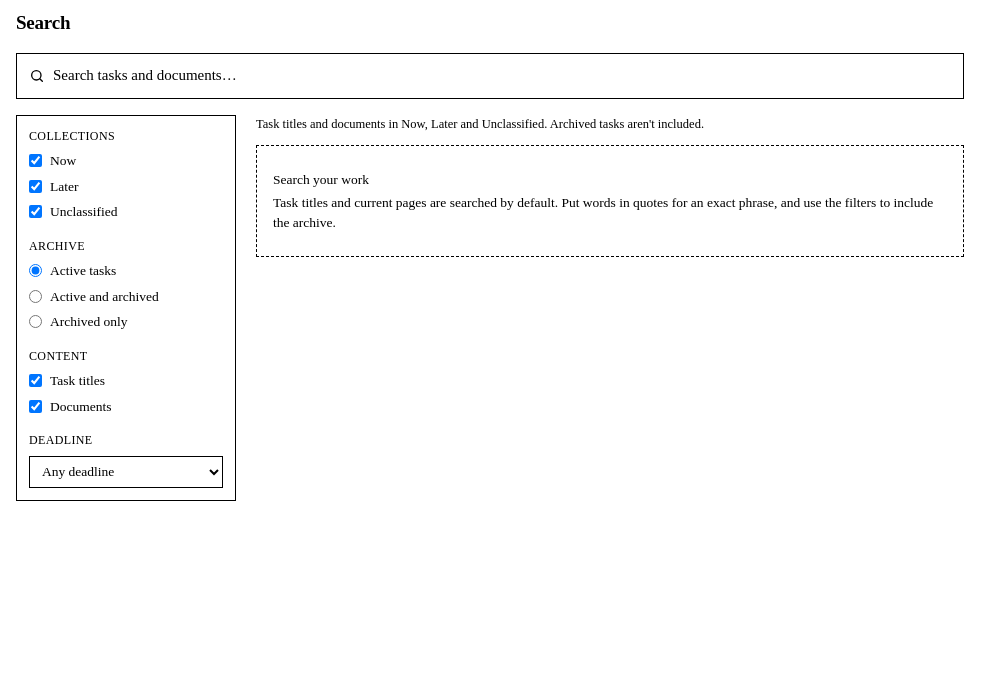
Scenario: the full search screen › refuses a malformed date range and explains an unavailable deadline filter
Type "portfolio" into the search field at [502, 76], box [53,54,951,98]
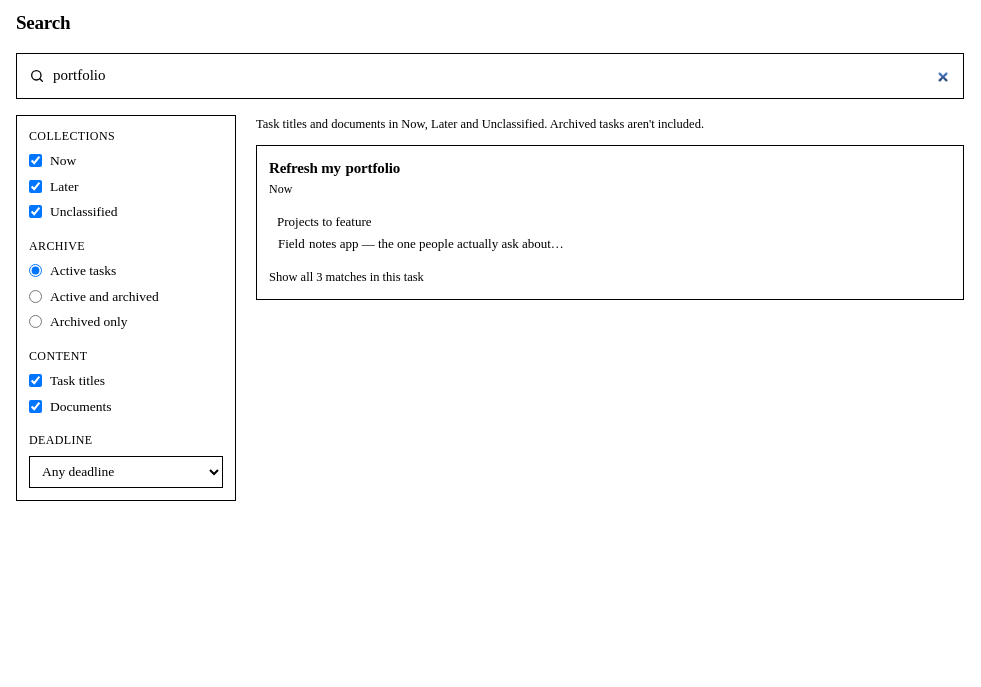
Select "Due between" in the dropdown named "Deadline filter" at [126, 472], box [29,456,223,488]
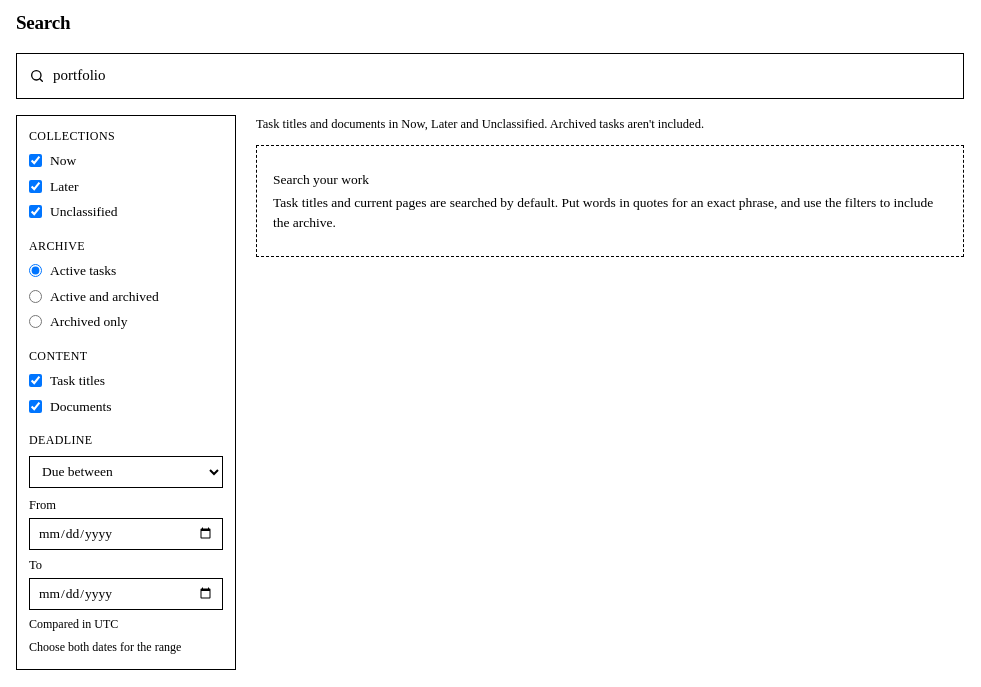
Expected: the text "Choose both dates for the range" is shown, [29,640,181,654]
Type "2026-03-05" into the date field labelled "From" at [126, 534], box [29,518,223,550]
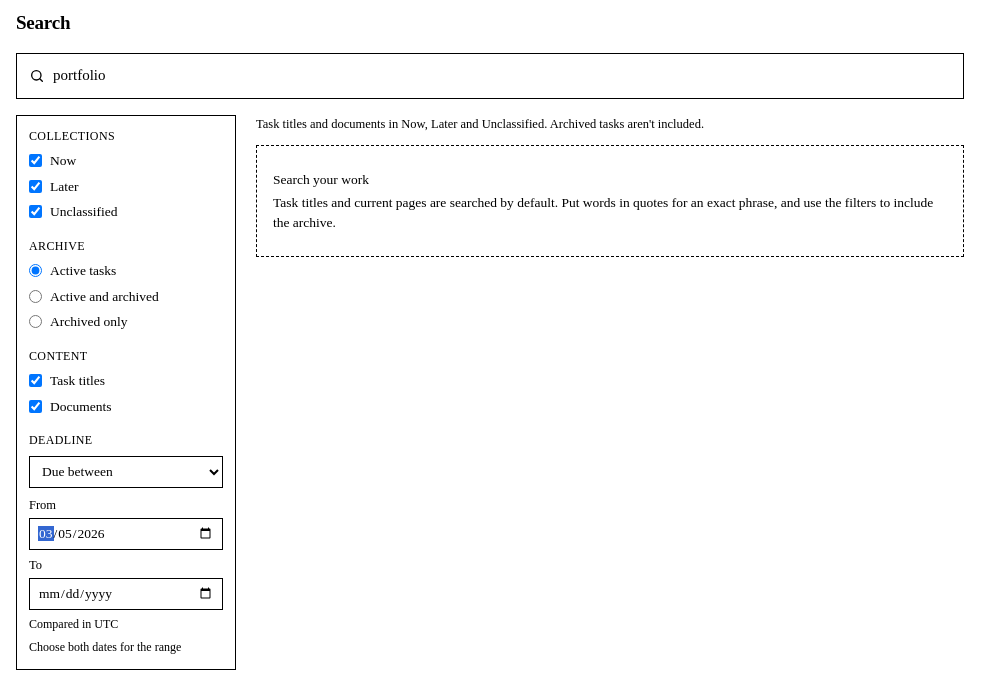
Type "2026-03-01" into the date field labelled "To" at [126, 594], box [29,578,223,610]
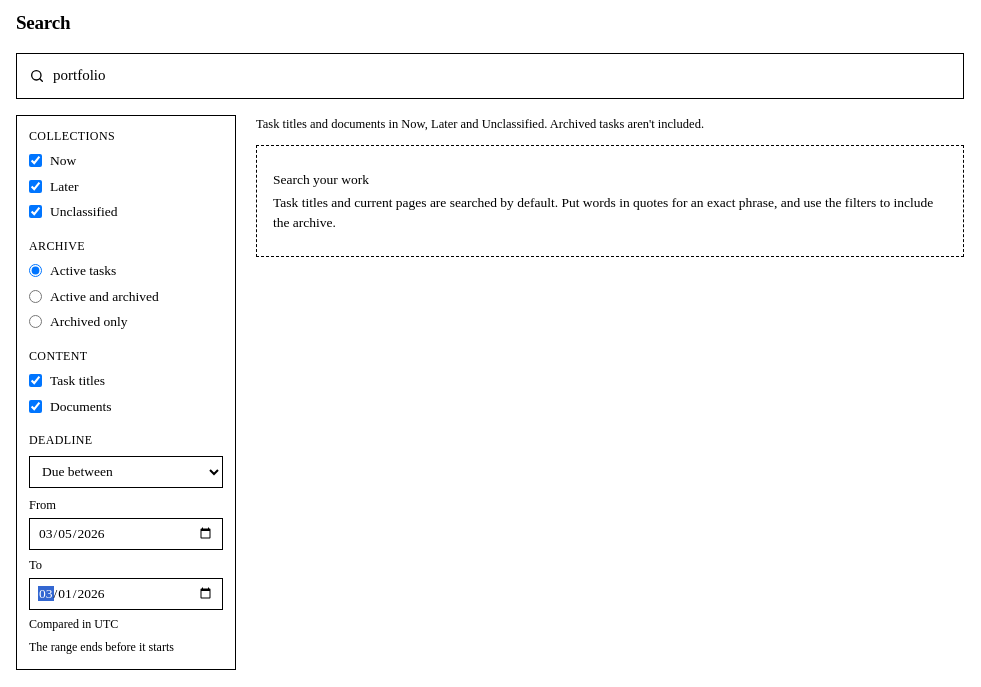
Expected: the text "The range ends before it starts" is shown, [29,640,174,654]
Select "Due today" in the dropdown named "Deadline filter" at [126, 472], box [29,456,223,488]
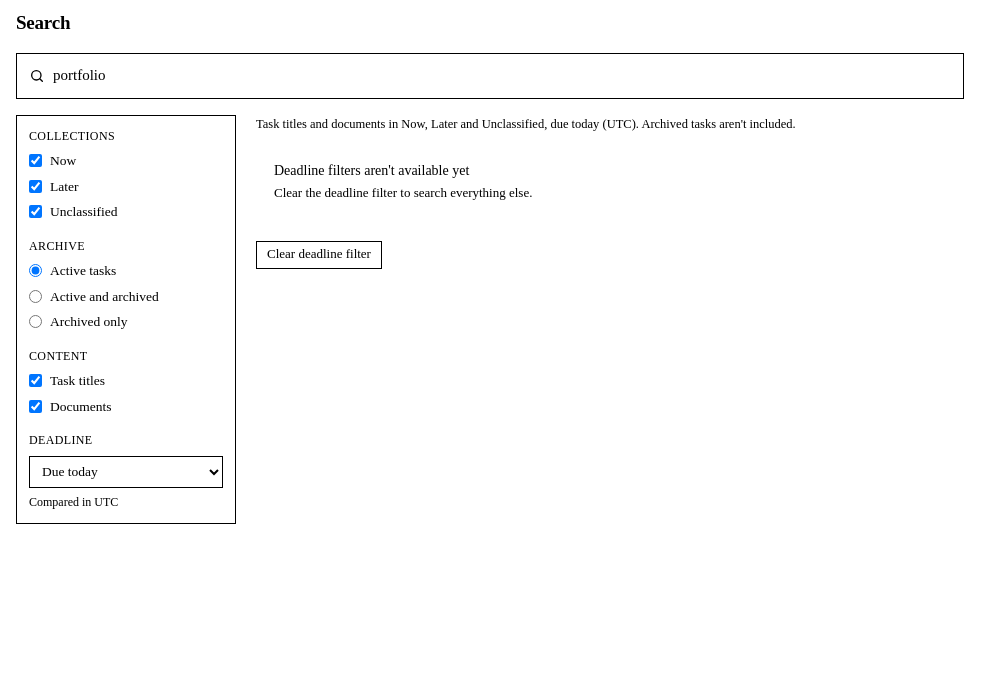
Click the button "Clear deadline filter" at [319, 255], box [256,241,382,269]
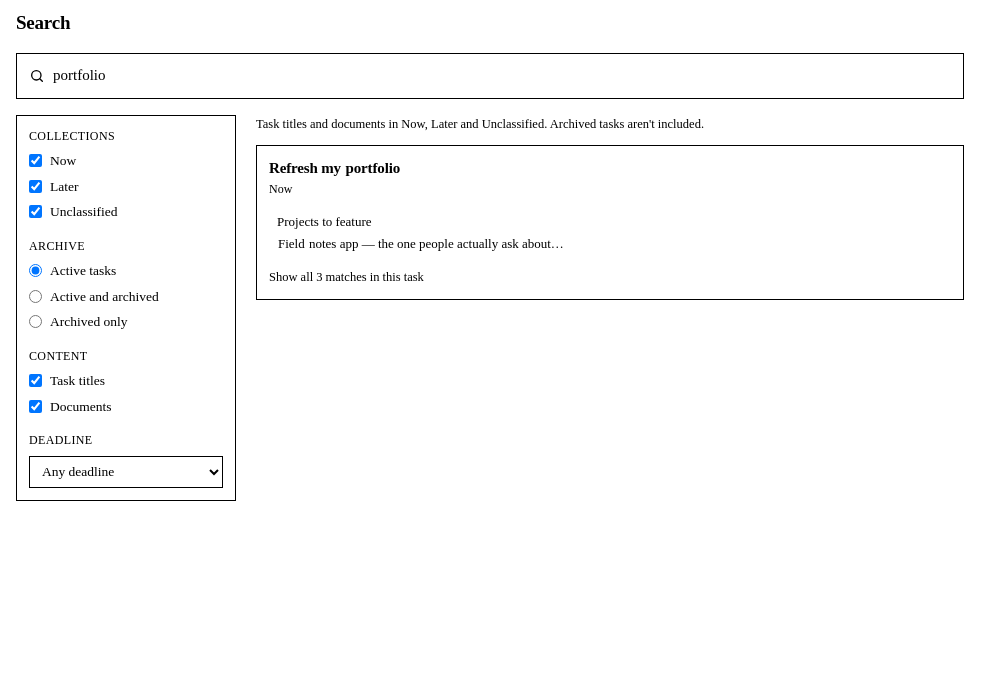
Expected: the text "Deadline filters aren't available yet" is not shown
